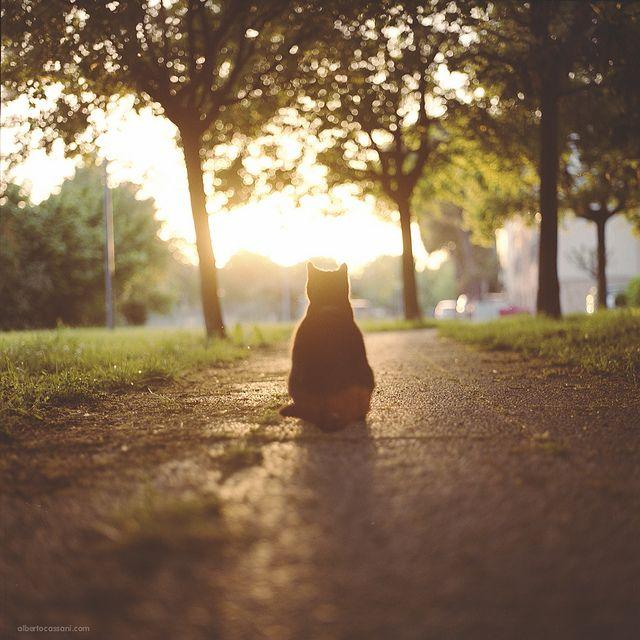kedo: (288, 265, 378, 434)
